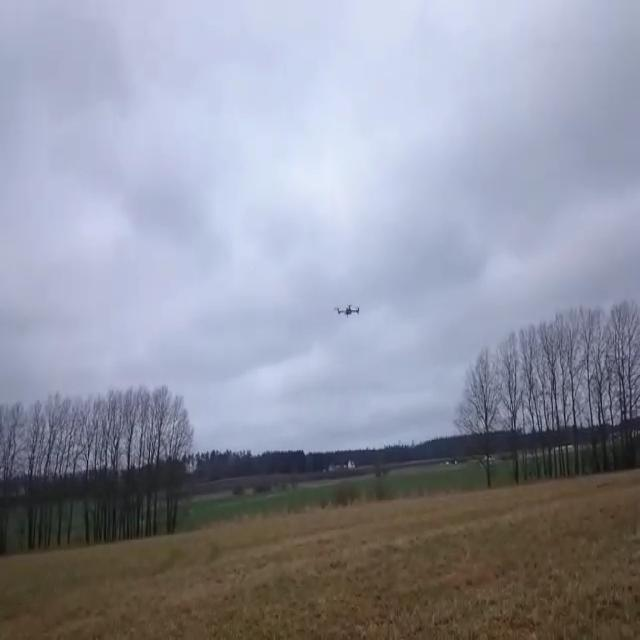Drone: (322, 291, 369, 327)
